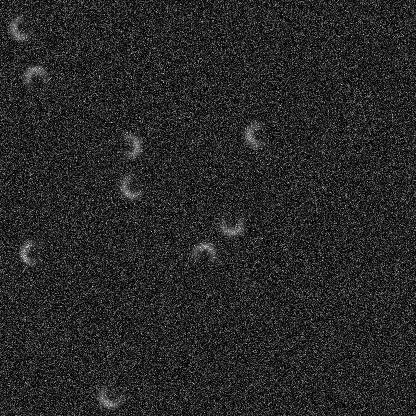Janus: (20, 63, 50, 93), (95, 380, 125, 410), (112, 130, 142, 160), (17, 238, 47, 268), (216, 207, 246, 237), (7, 12, 37, 42), (117, 170, 147, 200), (188, 240, 218, 270), (242, 119, 272, 149)
